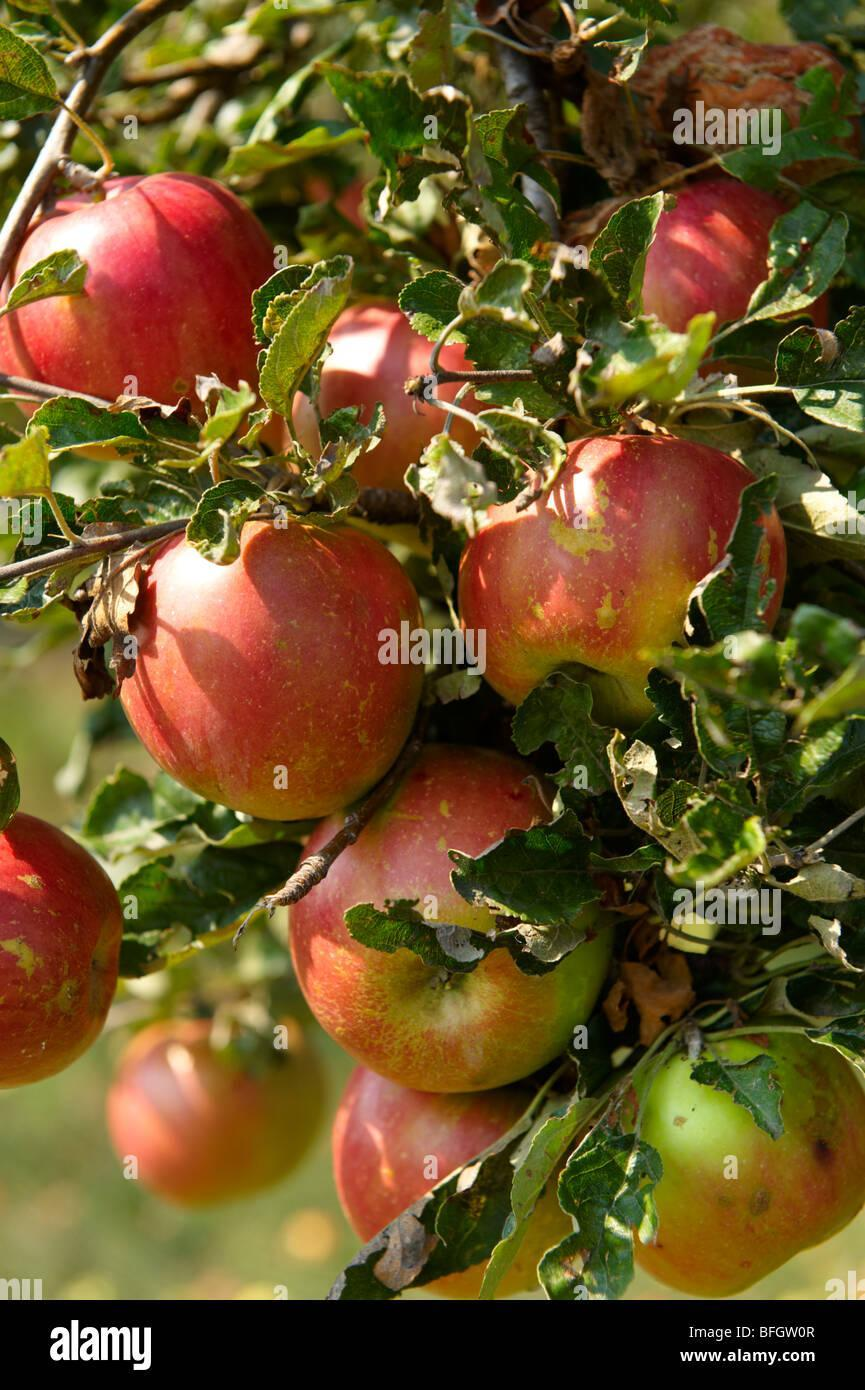apple: (284, 756, 632, 1111), (110, 509, 441, 809), (460, 452, 777, 751), (3, 172, 285, 432), (625, 1021, 862, 1296), (324, 1066, 593, 1288), (286, 276, 513, 525), (1, 815, 121, 1092), (635, 177, 784, 345)
